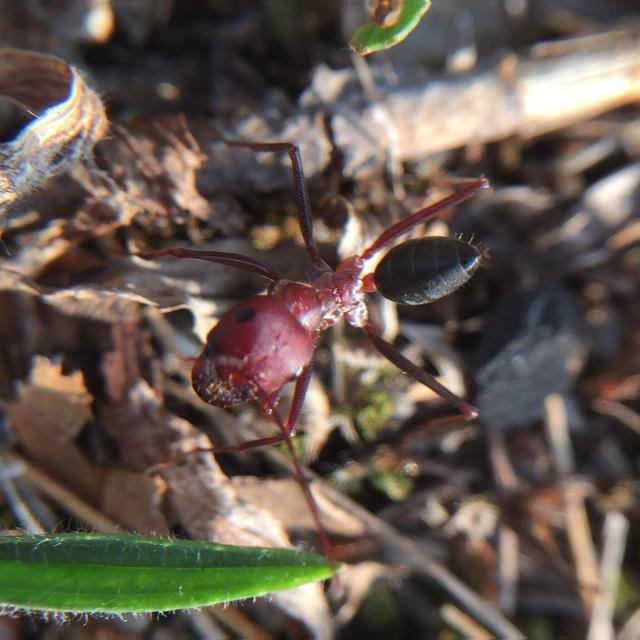Cataglyphis: (161, 176, 517, 458)
